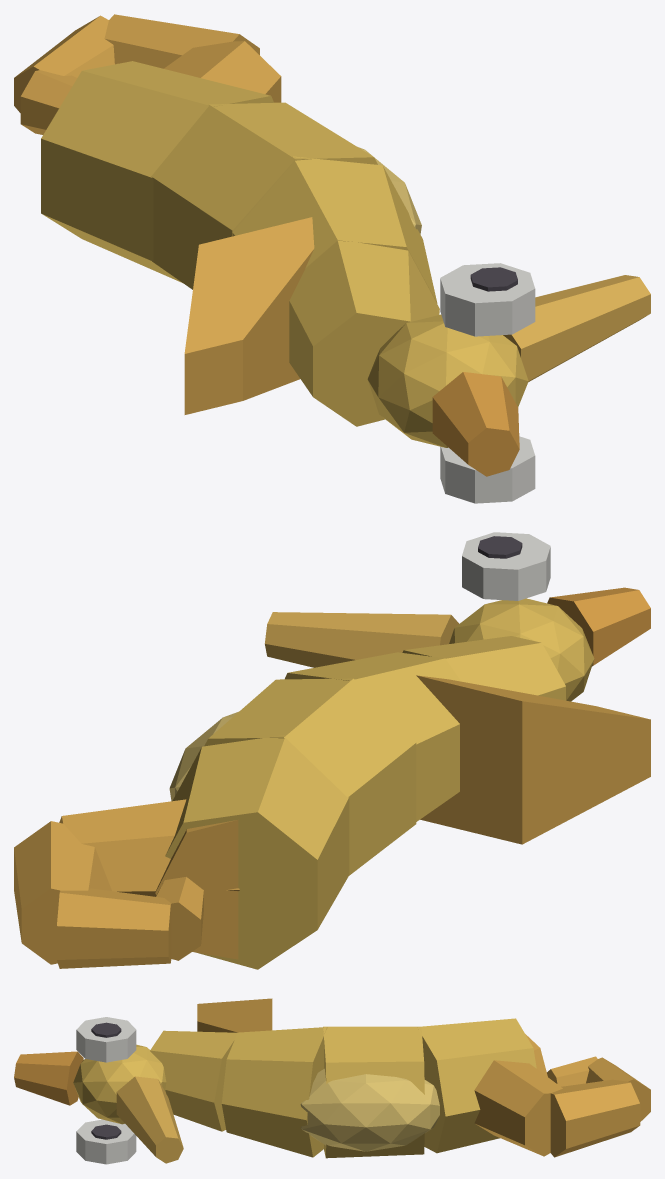
3 renders of one model, top to bottom at view 1: azimuth 30°, elevation 25°; view 2: azimuth 150°, elevation 25°; view 3: azimuth 270°, elevation 25°, orthographic. The views are drawn at different scales.
Parts seen in each view (by area): view 1: part0, part1, part8, part3, part2, part5, part6, part7, part14, part11, part10, part16 (+4 smaller); view 2: part0, part8, part1, part2, part12, part6, part11, part10, part9, part5, part3, part14 (+4 smaller); view 3: part2, part0, part4, part1, part3, part10, part11, part6, part5, part7, part8, part14 (+6 smaller).
Part boxes in pixels (x1,y1,x2,y2): part0: (41, 61, 273, 282); part1: (151, 102, 377, 289); part8: (184, 217, 314, 414); part3: (289, 240, 439, 426); part2: (232, 156, 437, 303); part5: (367, 314, 528, 447); part6: (503, 275, 650, 381); part7: (432, 372, 519, 476); part14: (440, 263, 535, 336); part11: (104, 14, 259, 68); part10: (164, 41, 281, 102); part16: (440, 436, 535, 503); part0: (165, 735, 349, 969); part8: (416, 675, 650, 844); part1: (204, 678, 416, 875); part2: (285, 652, 460, 821); part12: (56, 888, 171, 968); part6: (264, 612, 459, 667); part11: (14, 821, 111, 964); part10: (59, 799, 239, 896); part9: (155, 820, 238, 959); part5: (449, 598, 594, 701); part3: (402, 636, 565, 700); part14: (462, 532, 550, 600); part2: (221, 1027, 327, 1157); part0: (417, 1018, 536, 1153); part4: (300, 1068, 439, 1151); part1: (323, 1026, 424, 1158); part3: (150, 1030, 237, 1131); part10: (474, 1060, 562, 1156); part11: (550, 1079, 640, 1157); part6: (116, 1076, 183, 1163); part5: (73, 1044, 166, 1124); part7: (14, 1051, 83, 1105); part8: (197, 998, 272, 1032); part14: (76, 1017, 136, 1062).
Bounding box in the file's own units: 3.25 × 1.5 × 6.8.
